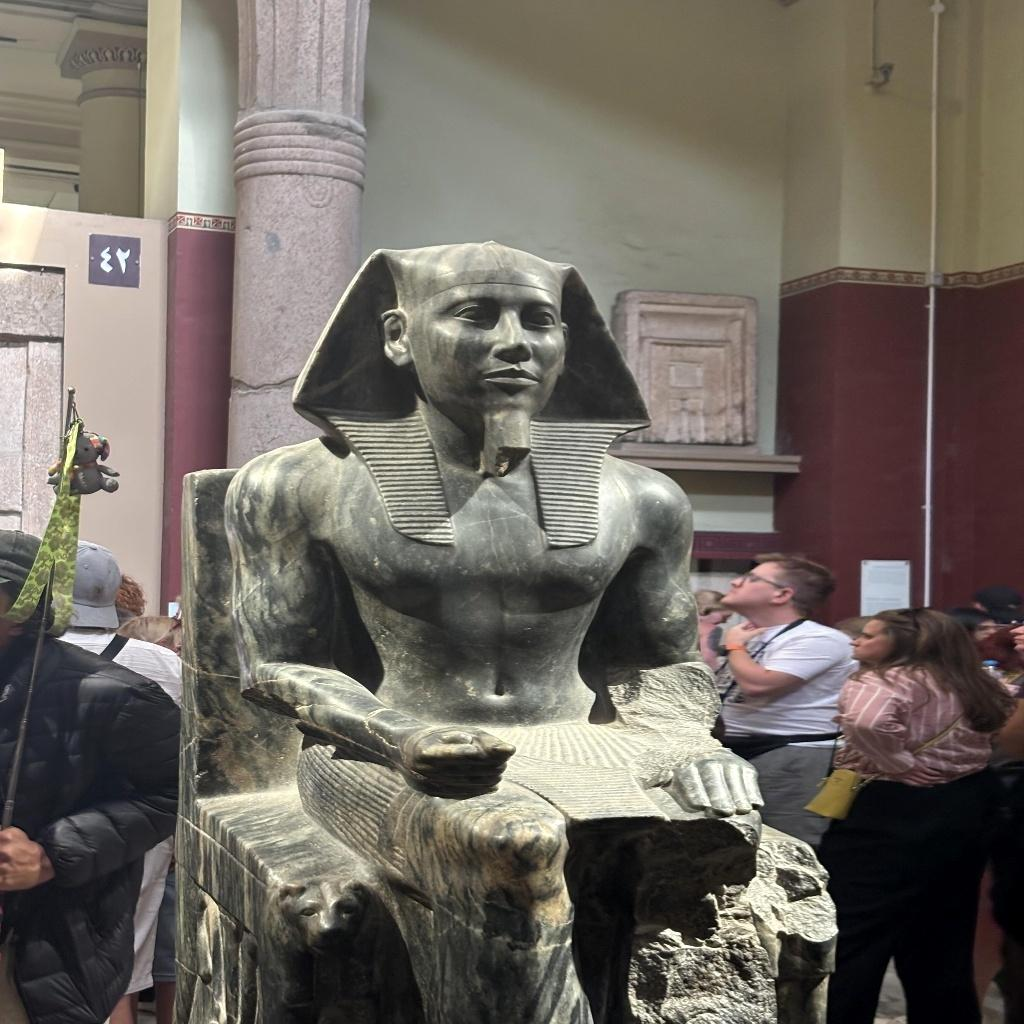Statue of Khafre: (222, 241, 805, 1015)
